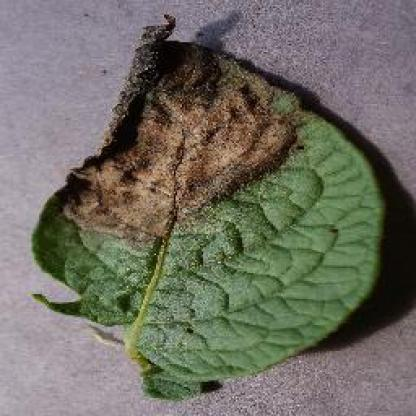bad leaf: (18, 3, 409, 414)
